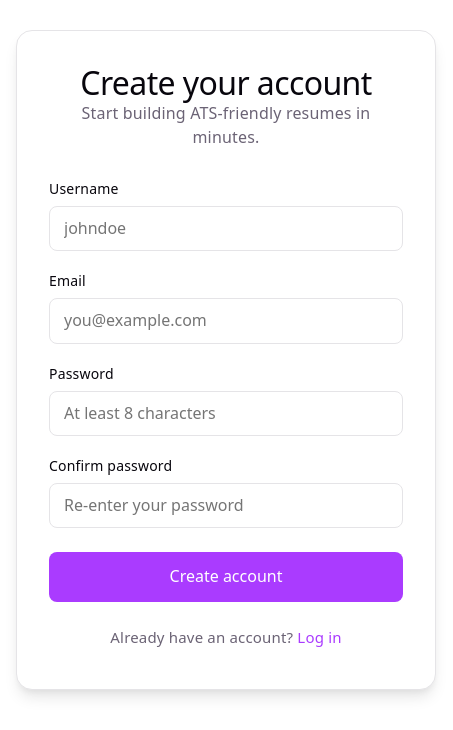
Test: Register › shows an error when the passwords do not match
In the field labelled "Username": x=226, y=229 [49,206,403,251], type "sam"
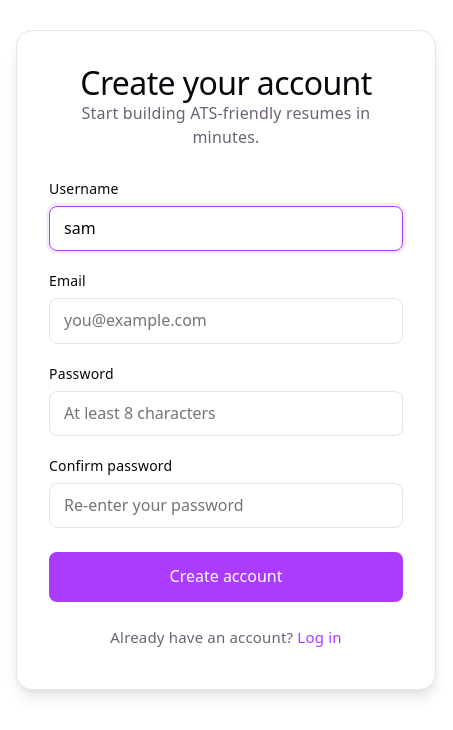
In the field labelled "Email": x=226, y=321 [49,298,403,344], type "sam@x.io"
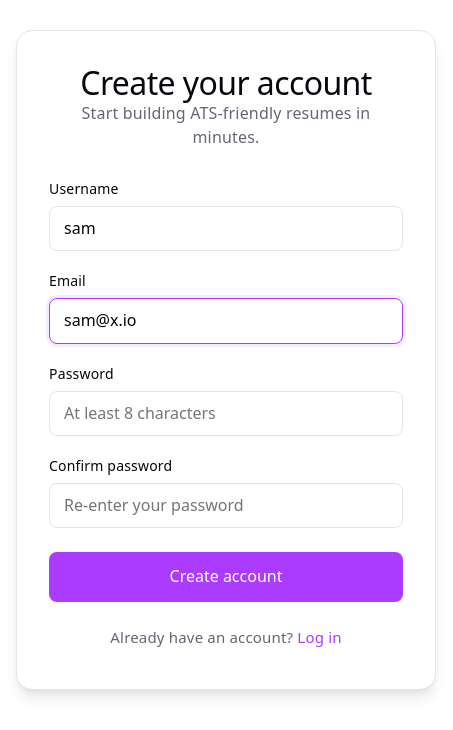
In the password field labelled "Password": x=226, y=413 [49,391,403,436], type "password1"
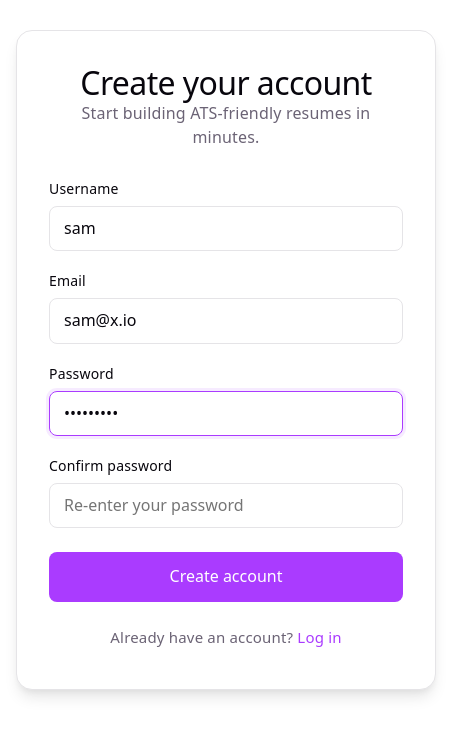
In the password field labelled "Confirm password": x=226, y=506 [49,483,403,528], type "password2"
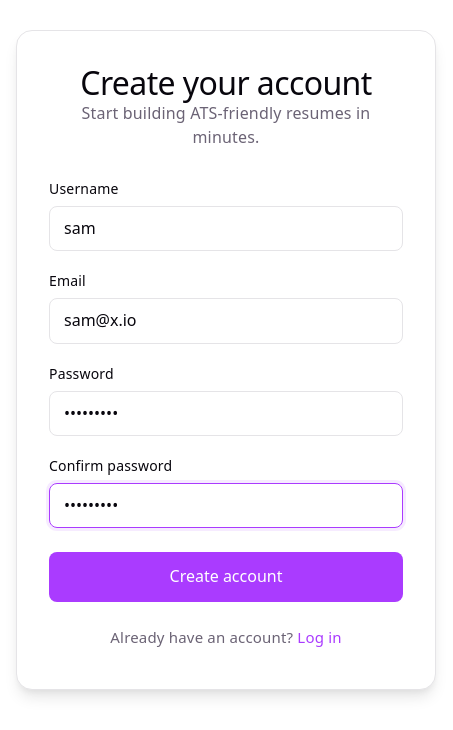
Click the button "Create account": x=226, y=577 [49,552,403,602]
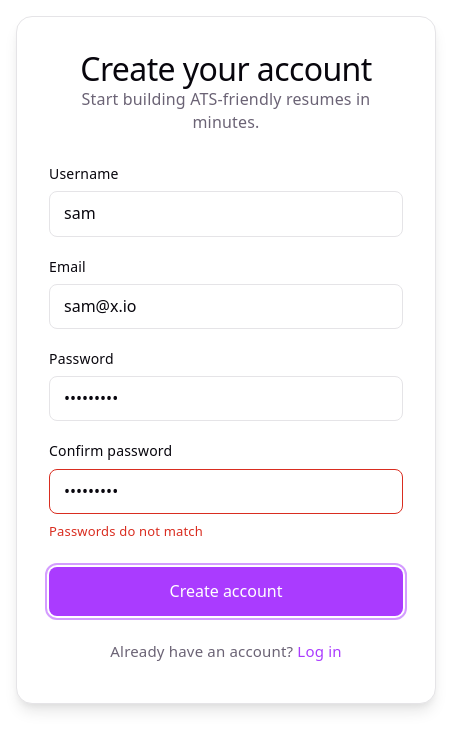
Check: the text "Passwords do not match" is shown, box [49,522,203,540]
